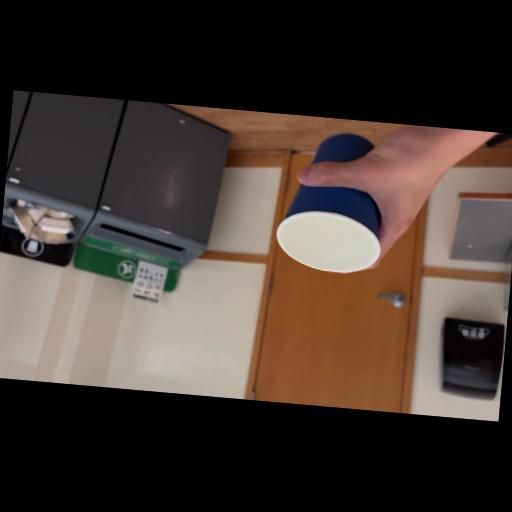lp_paper_cup: (271, 129, 393, 280)
